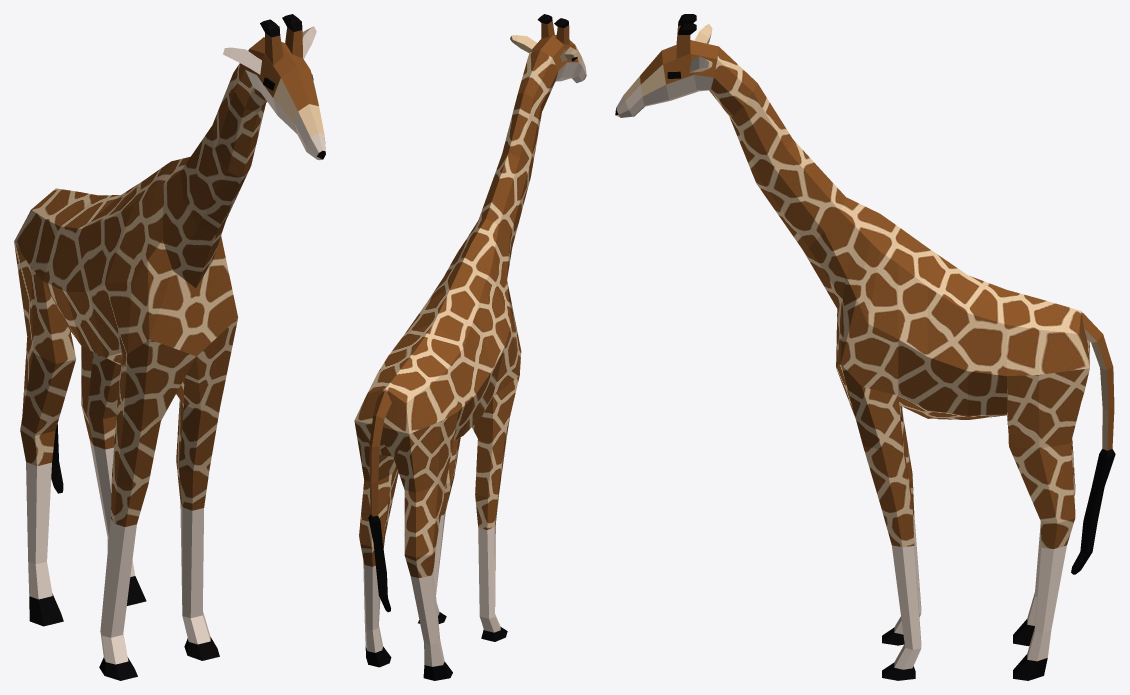
File: jirafa.glb
The picture shows the model from 3 angles, left to right: view 1: azimuth 30°, elevation 25°; view 2: azimuth 150°, elevation 25°; view 3: azimuth 270°, elevation 25°; orthographic projection. The views are drawn at different scales.
Parts seen in each view (by area): view 1: Geo_Giraffe; view 2: Geo_Giraffe; view 3: Geo_Giraffe.
Boxes of the visible parts, <box> form: Geo_Giraffe: <box>14,14,325,680</box>; Geo_Giraffe: <box>354,14,586,680</box>; Geo_Giraffe: <box>615,14,1115,680</box>.
Bounding box in the file's own units: 58.77 × 362 × 258.
1 material, 1 textured.
